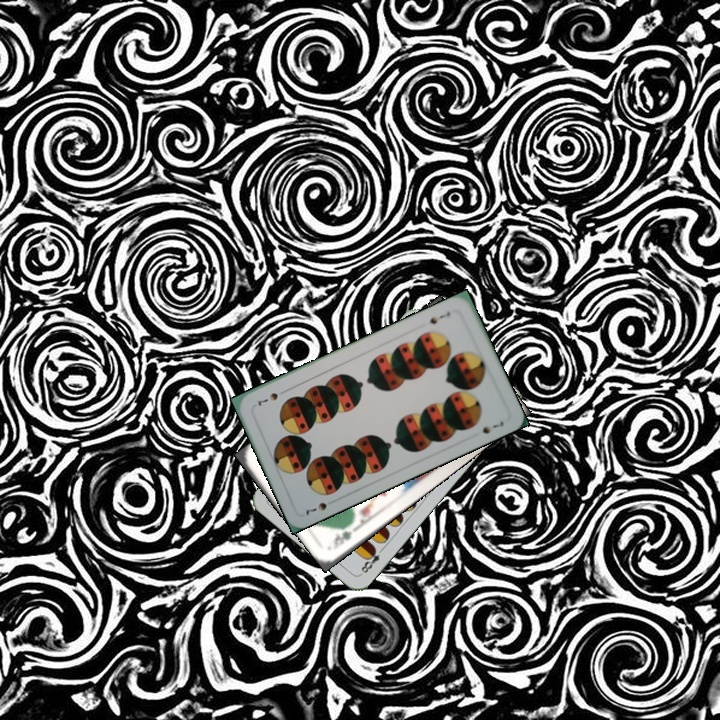E8: (357, 543, 387, 576)
GK: (329, 523, 360, 552)
S7: (300, 498, 329, 518), (426, 307, 453, 327)
